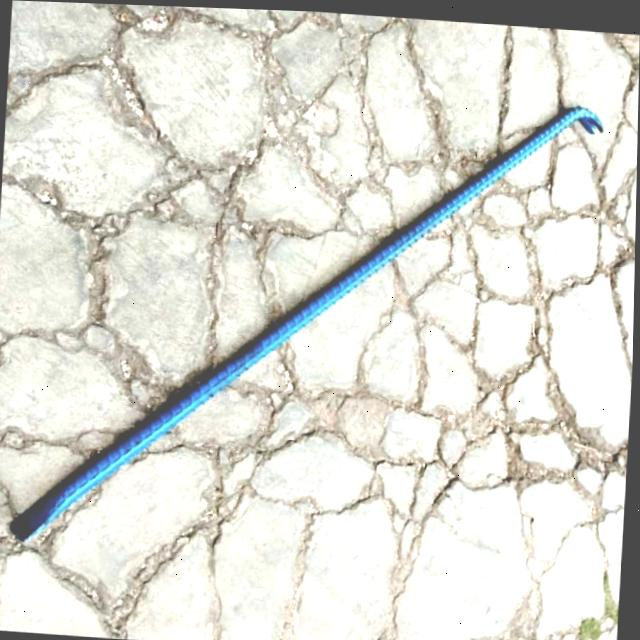crow bar: (4, 95, 610, 544)
